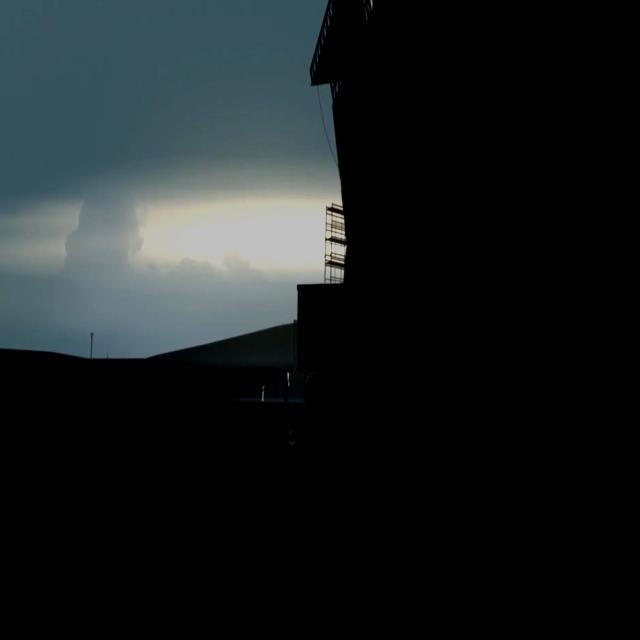boy: (257, 414, 295, 489)
zombie: (284, 365, 293, 402), (186, 365, 196, 398), (236, 364, 243, 404), (211, 367, 219, 402), (120, 363, 129, 393), (166, 367, 176, 394), (142, 366, 151, 393), (260, 373, 267, 400)
